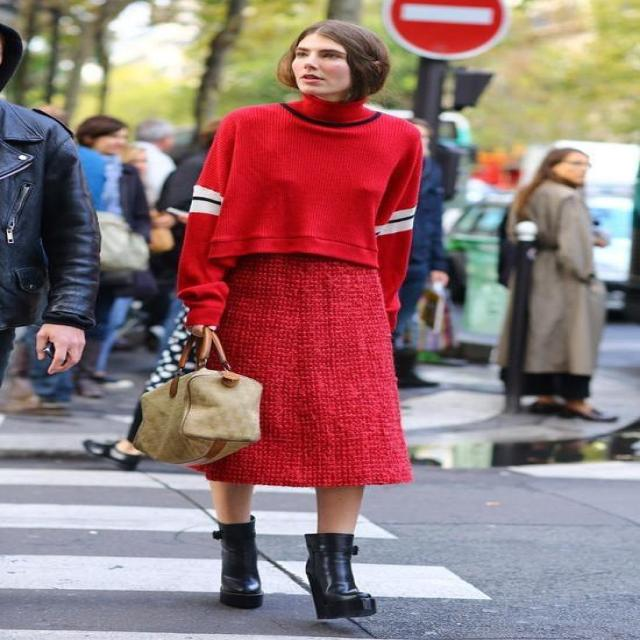skirt: (189, 248, 413, 490)
sweater: (178, 94, 422, 326)
